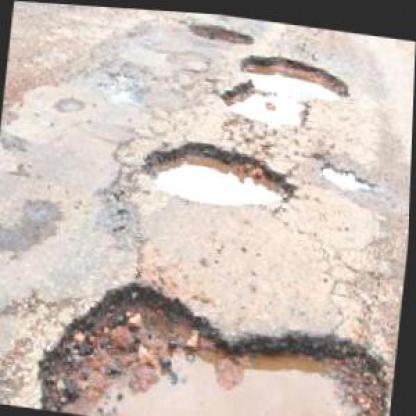pothole: (139, 127, 305, 210), (219, 43, 354, 130), (184, 18, 256, 44), (320, 157, 377, 187)
